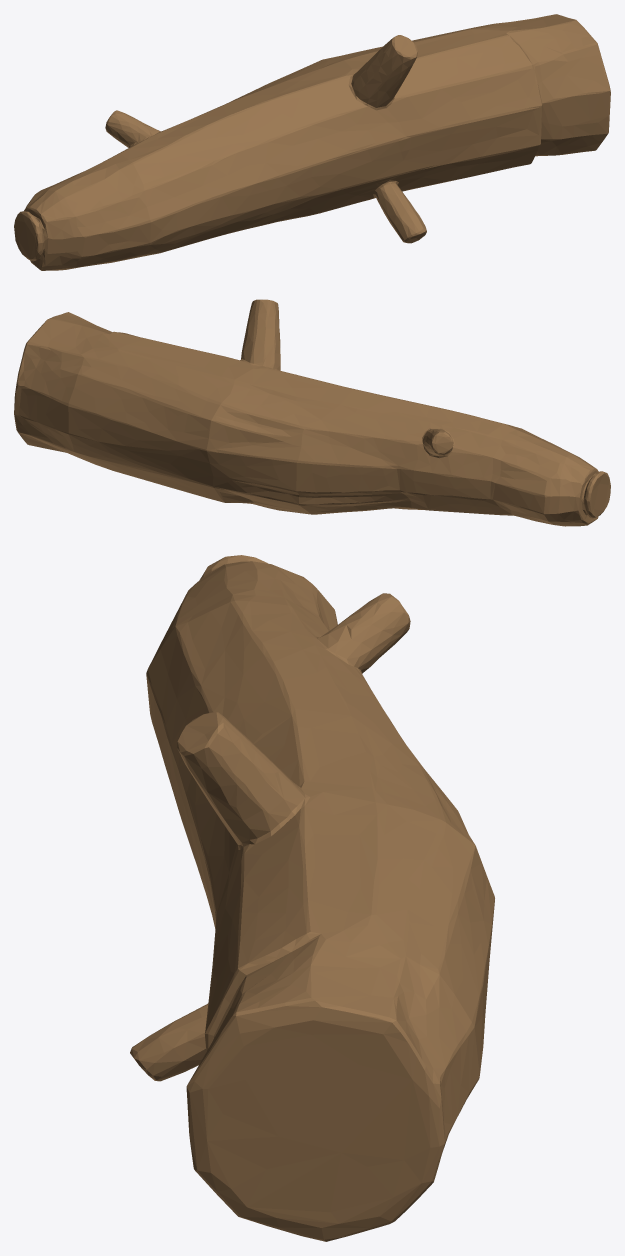
The model's file is fallen_log_01.glb.
3 views of the same model, one above another, from view 1: azimuth 30°, elevation 25°; view 2: azimuth 150°, elevation 25°; view 3: azimuth 270°, elevation 25° (orthographic). The views are drawn at different scales.
Parts seen in each view (by area): view 1: fallen_log_01; view 2: fallen_log_01; view 3: fallen_log_01.
Part boxes in pixels (left/top/right/bottom): fallen_log_01: left=14, top=14, right=610, bottom=270; fallen_log_01: left=14, top=299, right=610, bottom=526; fallen_log_01: left=130, top=555, right=494, bottom=1241.
Bounding box in the file's own units: 2.4 × 0.78 × 0.7057.
